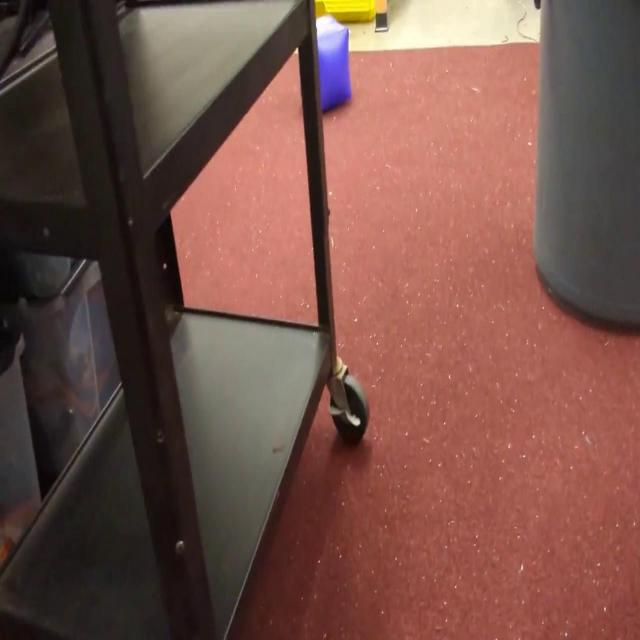frc_cube: (314, 15, 353, 109)
